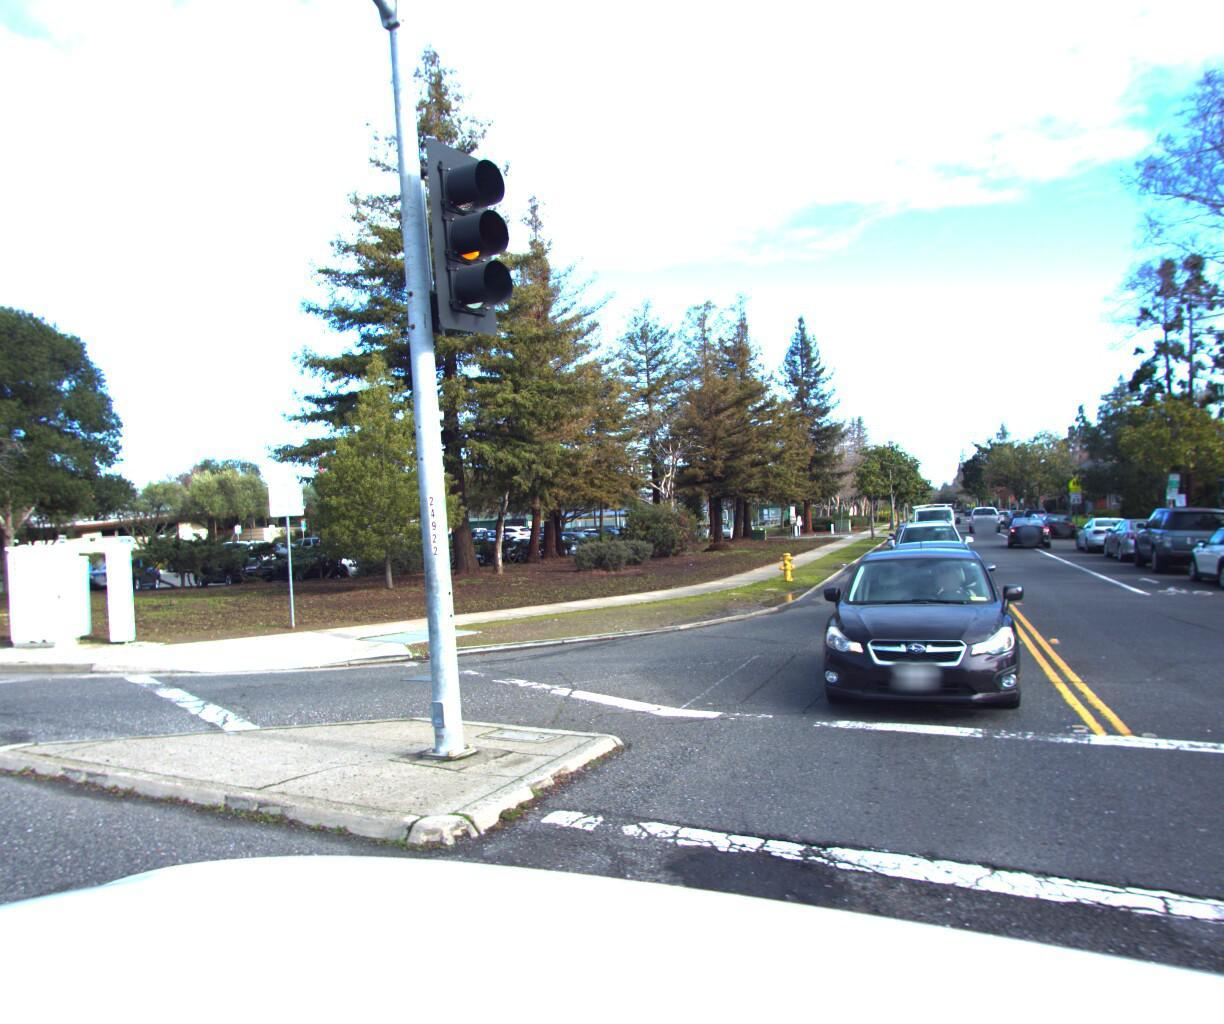car: (793, 533, 1053, 745), (857, 529, 1009, 644), (878, 500, 980, 595), (1122, 496, 1224, 580), (1096, 505, 1194, 562), (1176, 511, 1224, 595), (1070, 506, 1146, 553), (906, 494, 959, 547), (998, 508, 1050, 547), (1033, 508, 1079, 534), (967, 501, 999, 528), (1198, 499, 1224, 529)
